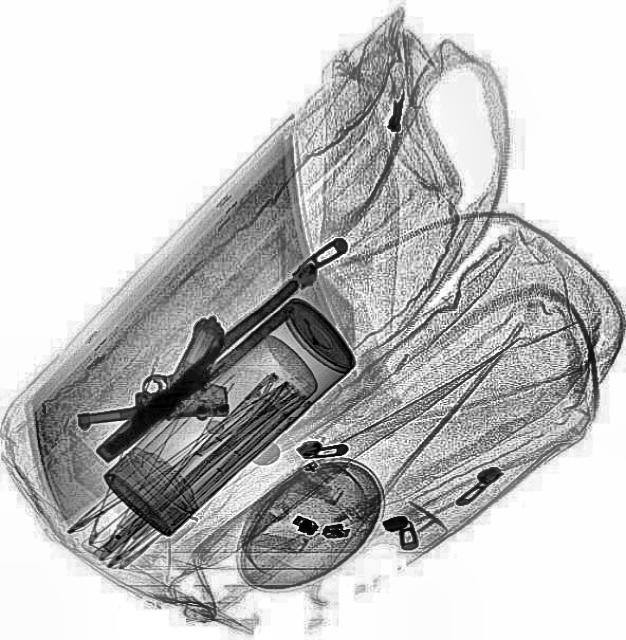Gun: (65, 312, 233, 426)
Pliers: (87, 274, 313, 468)
